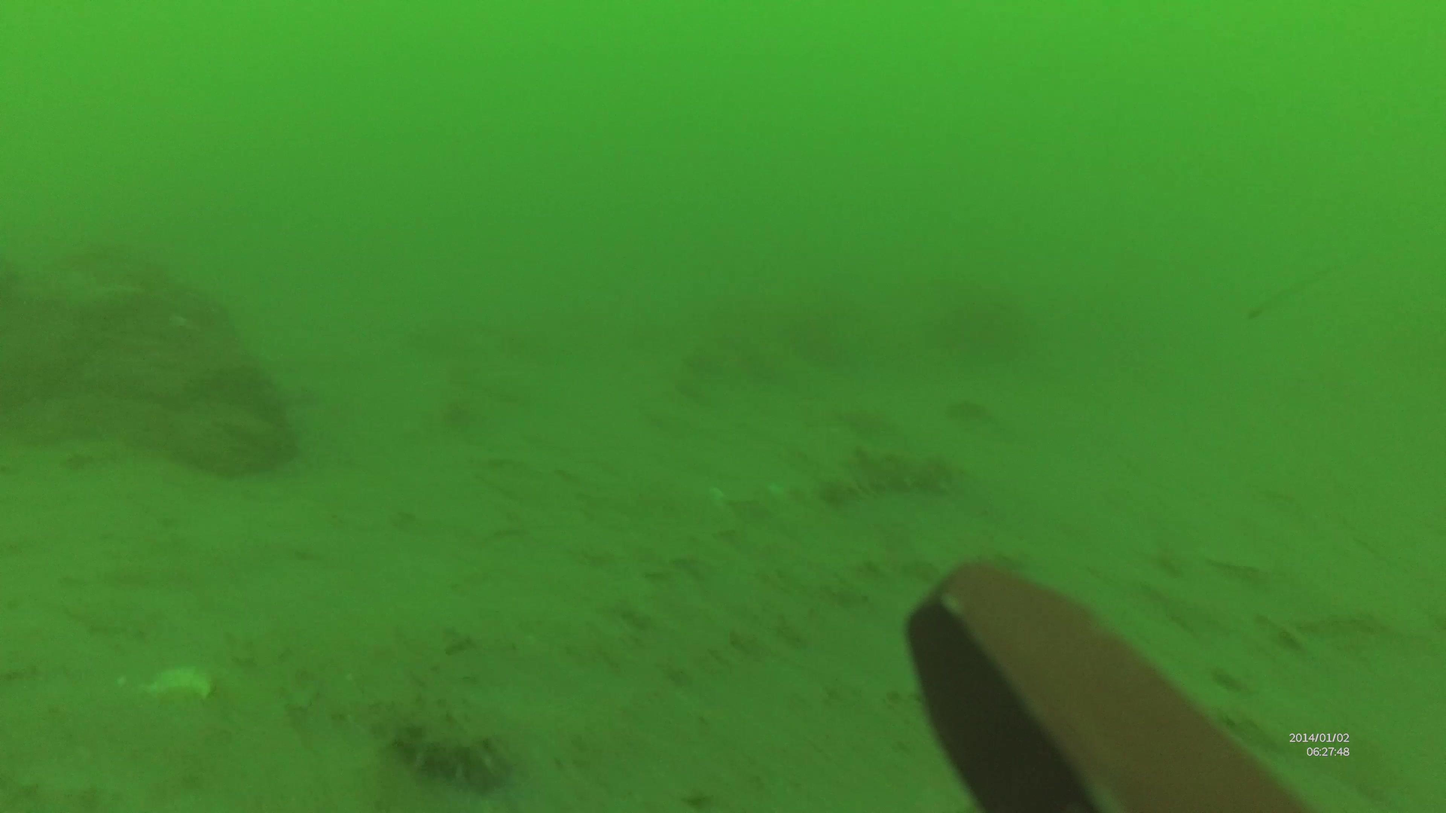echinus: (393, 712, 510, 790), (816, 445, 967, 504)
